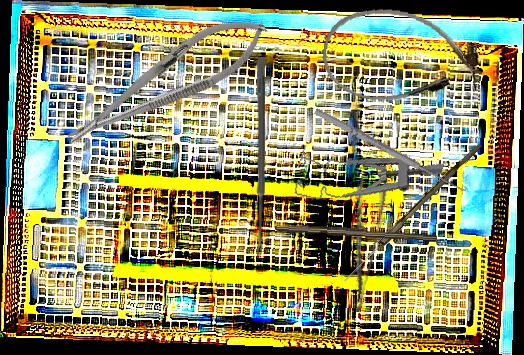Cannula: (317, 1, 485, 114)
Dressing Forceps: (331, 175, 391, 313)
Hook Surgical: (312, 101, 472, 196)
Needle Holder: (55, 1, 278, 162)
Scalpel Handle: (274, 221, 438, 243)
Speculum: (292, 133, 445, 224)
Surgical Spoon: (342, 140, 482, 285), (256, 57, 265, 256)
